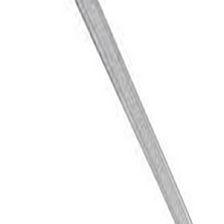wrench: (66, 1, 205, 224)
